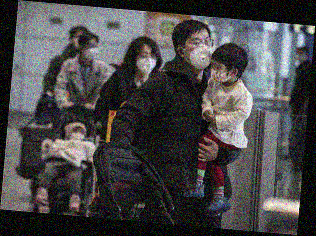with_mask: (184, 34, 214, 70), (135, 49, 157, 76), (208, 60, 230, 83), (84, 42, 100, 60), (70, 127, 86, 142)
